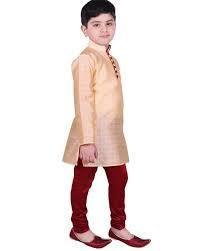Human: (59, 1, 169, 251)
